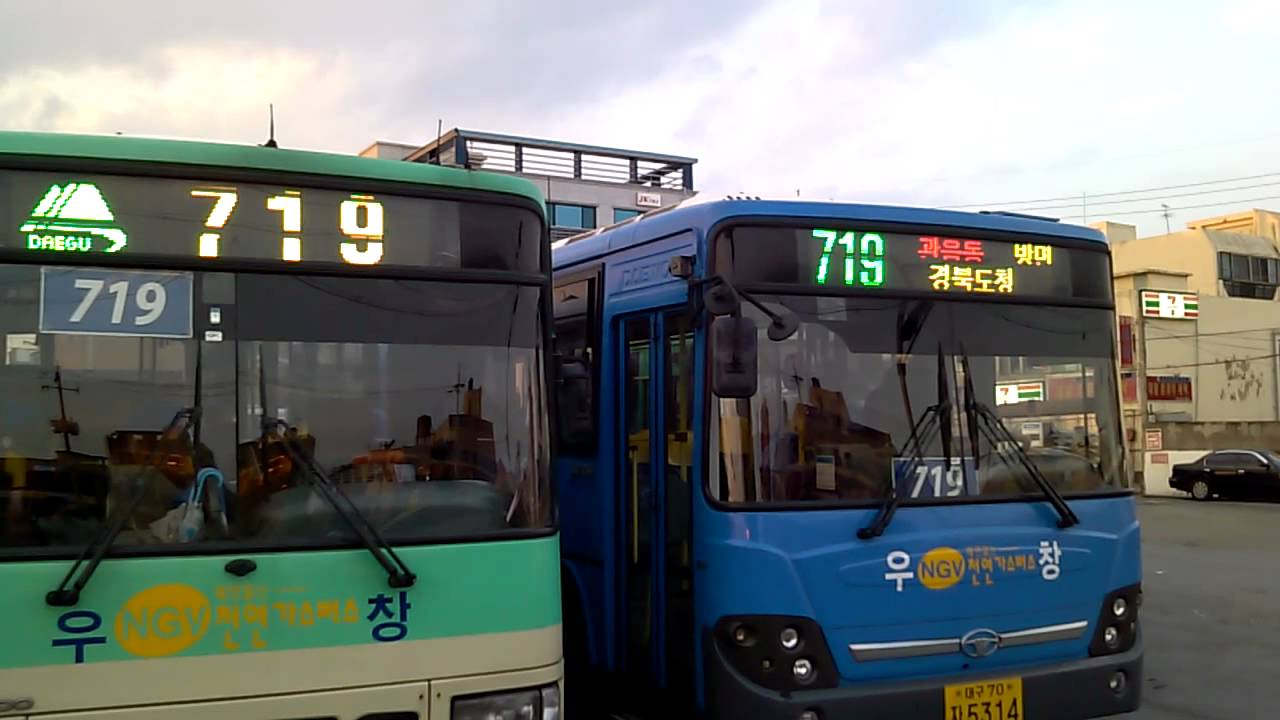bnum: (42, 270, 197, 338)
